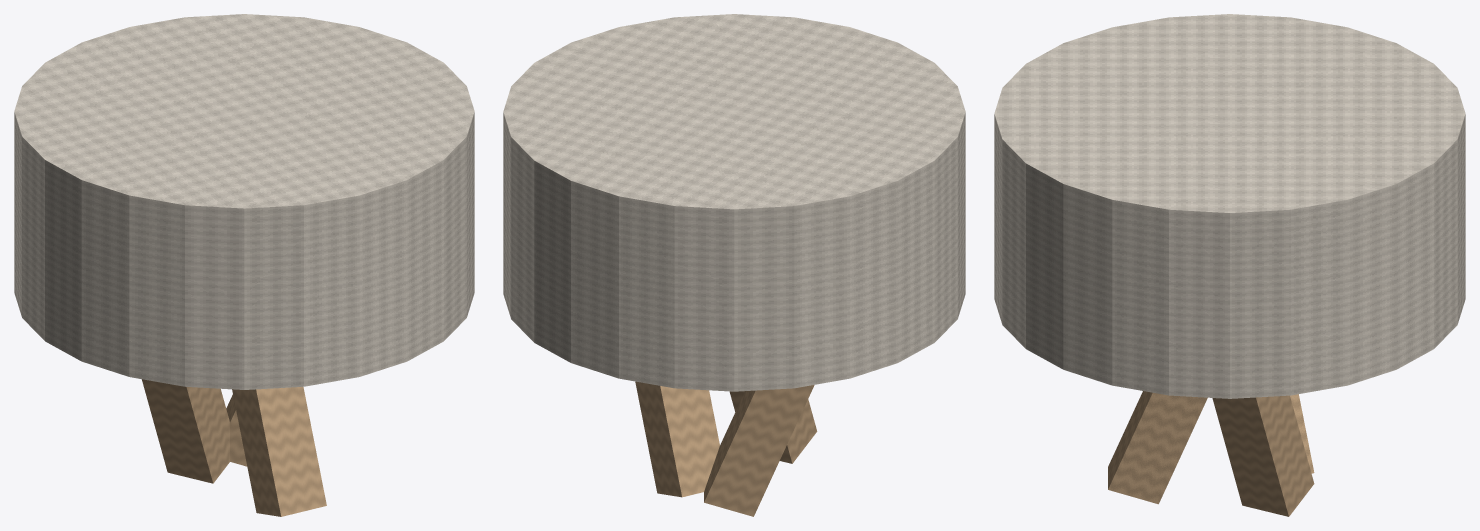
The picture shows the model from 3 angles, left to right: view 1: azimuth 30°, elevation 25°; view 2: azimuth 150°, elevation 25°; view 3: azimuth 270°, elevation 25°; orthographic projection. The views are drawn at different scales.
Parts seen in each view (by area): view 1: 1 shade, 3 leg_front, 4 leg_back_left, 5 leg_back_right; view 2: 1 shade, 4 leg_back_left, 5 leg_back_right, 3 leg_front; view 3: 1 shade, 5 leg_back_right, 3 leg_front, 4 leg_back_left.
Boxes of the visible parts, bbox=[...] form: 1 shade: bbox=[14, 14, 474, 389]; 3 leg_front: bbox=[232, 387, 326, 516]; 4 leg_back_left: bbox=[142, 379, 229, 483]; 5 leg_back_right: bbox=[226, 394, 247, 466]; 1 shade: bbox=[503, 14, 965, 391]; 4 leg_back_left: bbox=[704, 385, 814, 516]; 5 leg_back_right: bbox=[635, 381, 719, 497]; 3 leg_front: bbox=[729, 391, 817, 463]; 1 shade: bbox=[994, 14, 1465, 398]; 5 leg_back_right: bbox=[1212, 395, 1314, 516]; 3 leg_front: bbox=[1108, 391, 1207, 504]; 4 leg_back_left: bbox=[1290, 394, 1314, 473].
Bounding box in the file's own units: 0.205 × 0.1821 × 0.205.
3 materials, 2 textured.
